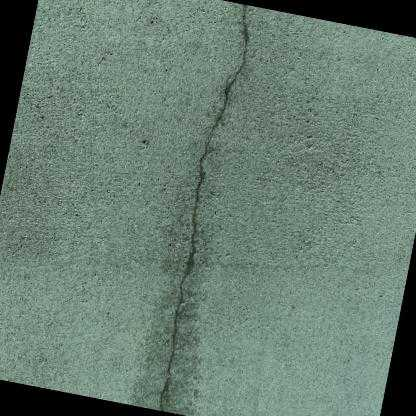crack: (159, 3, 246, 411)
